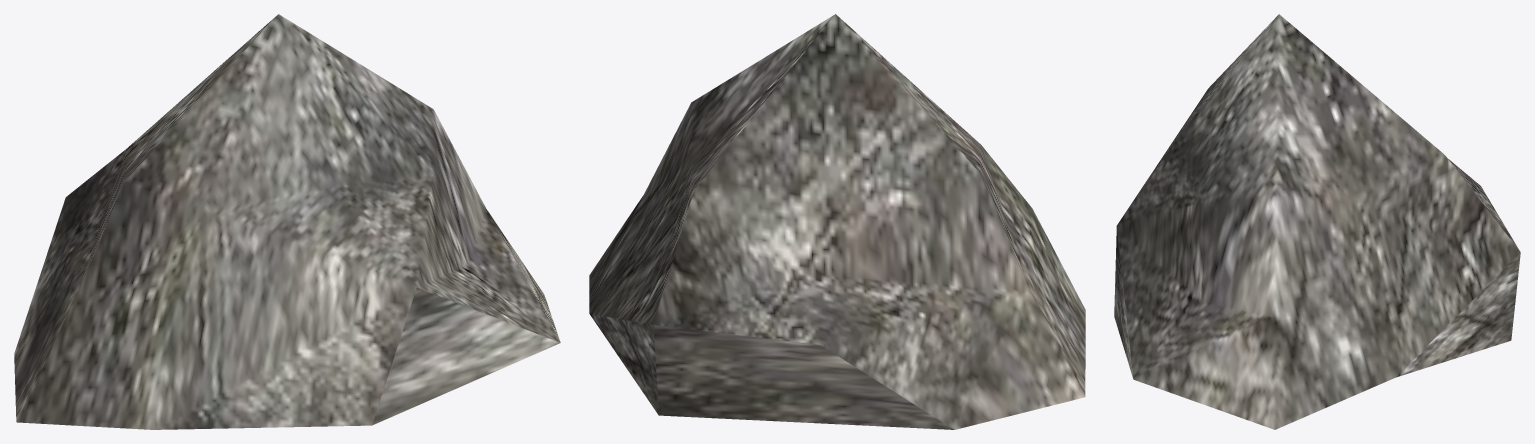
Rendered from geology-highland1.glb.
The picture shows the model from 3 angles, left to right: view 1: azimuth 30°, elevation 25°; view 2: azimuth 150°, elevation 25°; view 3: azimuth 270°, elevation 25°; orthographic projection. The views are drawn at different scales.
Visible parts, largest first — view 1: wrld_rock_highland1; view 2: wrld_rock_highland1; view 3: wrld_rock_highland1.
Part boxes in pixels (box(x1,y1,x2,y2)): wrld_rock_highland1: box(14, 14, 560, 429); wrld_rock_highland1: box(589, 14, 1085, 429); wrld_rock_highland1: box(1114, 14, 1520, 429).
Size of the model in its own units: 1.08 by 0.6694 by 0.8151.
1 material, 1 textured.
